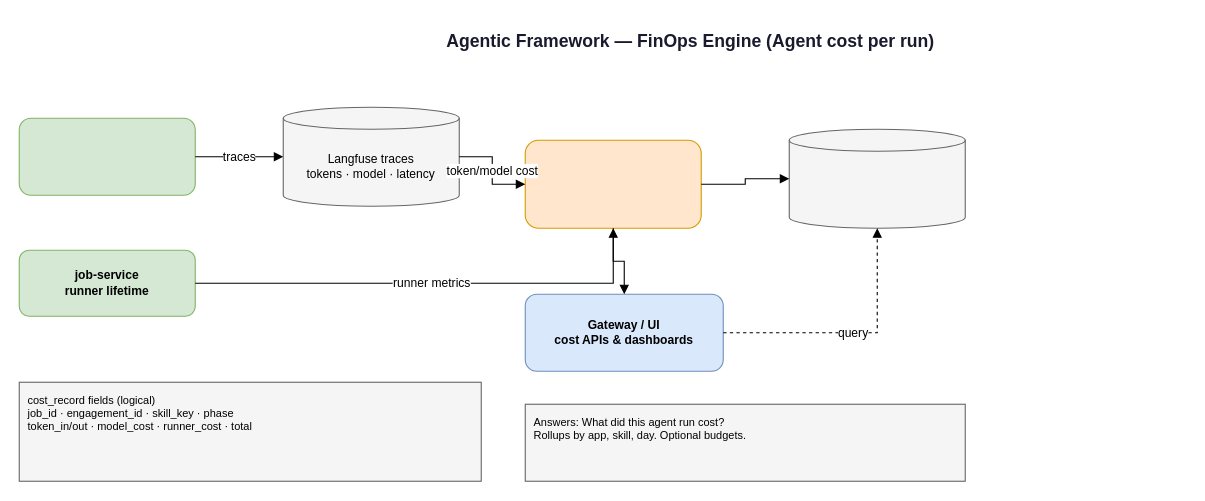
Image size: 1205x501. Some labels were removed from this diagram. Here are the shapes that lost their labels. From the top down, the centre of each, then its label:
point 106,156: agent-orchestrator + runners
point 612,183: finops-engine
point 876,178: cost_record per job / skill / agent
